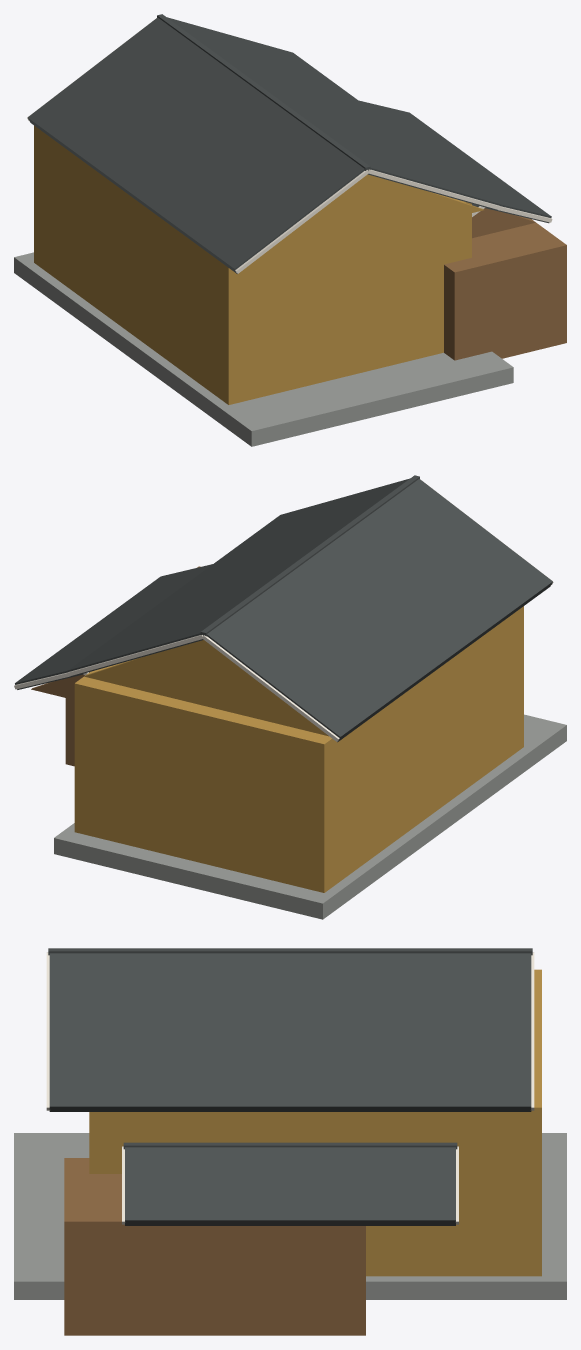
File: norway-sawmill_lod1.glb
The picture shows the model from 3 angles, top to bottom: view 1: azimuth 30°, elevation 25°; view 2: azimuth 150°, elevation 25°; view 3: azimuth 270°, elevation 25°; orthographic projection. The views are drawn at different scales.
Parts seen in each view (by area): view 1: RF_Sawmill_Hall, RF_Sawmill_RoofA, RF_Sawmill_Base, RF_Sawmill_Shed, RF_Sawmill_RoofB, RF_Sawmill_Gables, RF_SawmillShed_RoofB, RF_Sawmill_RidgeCap, RF_SawmillShed_Gables, RF_Sawmill_VergeLeftFront, RF_Sawmill_VergeRightFront; view 2: RF_Sawmill_Hall, RF_Sawmill_RoofA, RF_Sawmill_Base, RF_Sawmill_RoofB, RF_Sawmill_Gables, RF_SawmillShed_RoofB, RF_Sawmill_RidgeCap, RF_Sawmill_VergeLeftRear, RF_Sawmill_VergeRightRear, RF_Sawmill_Shed, RF_SawmillShed_Gables; view 3: RF_Sawmill_RoofB, RF_Sawmill_Shed, RF_Sawmill_Hall, RF_SawmillShed_RoofB, RF_Sawmill_Base, RF_Sawmill_RidgeCap, RF_SawmillShed_RidgeCap, RF_Sawmill_VergeRightFront, RF_Sawmill_VergeRightRear.
Part boxes in pixels (x1,y1,x2,y2): RF_Sawmill_Hall: (34, 125, 471, 404); RF_Sawmill_RoofA: (27, 17, 364, 273); RF_Sawmill_Base: (14, 252, 513, 446); RF_Sawmill_Shed: (444, 216, 566, 360); RF_Sawmill_RoofB: (167, 17, 499, 210); RF_Sawmill_Gables: (246, 174, 483, 268); RF_SawmillShed_RoofB: (359, 100, 551, 223); RF_Sawmill_RidgeCap: (157, 14, 370, 170); RF_SawmillShed_Gables: (472, 208, 535, 238); RF_Sawmill_VergeLeftFront: (235, 170, 368, 273); RF_Sawmill_VergeRightFront: (368, 169, 500, 209); RF_Sawmill_Hall: (74, 606, 523, 892); RF_Sawmill_RoofA: (207, 479, 552, 742); RF_Sawmill_Base: (54, 714, 566, 919); RF_Sawmill_RoofB: (68, 478, 409, 676); RF_Sawmill_Gables: (84, 640, 328, 736); RF_SawmillShed_RoofB: (15, 564, 212, 689); RF_Sawmill_RidgeCap: (200, 475, 419, 636); RF_Sawmill_VergeLeftRear: (202, 635, 339, 741); RF_Sawmill_VergeRightRear: (67, 635, 202, 676); RF_Sawmill_Shed: (65, 566, 200, 766); RF_SawmillShed_Gables: (31, 674, 84, 699); RF_Sawmill_RoofB: (49, 953, 531, 1111); RF_Sawmill_Shed: (64, 1158, 365, 1335); RF_Sawmill_Hall: (89, 969, 541, 1276); RF_SawmillShed_RoofB: (125, 1147, 455, 1225); RF_Sawmill_Base: (14, 1133, 566, 1299); RF_Sawmill_RidgeCap: (48, 948, 532, 955); RF_SawmillShed_RidgeCap: (123, 1142, 457, 1149); RF_Sawmill_VergeRightFront: (46, 953, 50, 1110); RF_Sawmill_VergeRightRear: (530, 953, 534, 1110).
Size of the model in its own units: 18.69 by 12.1 by 22.
